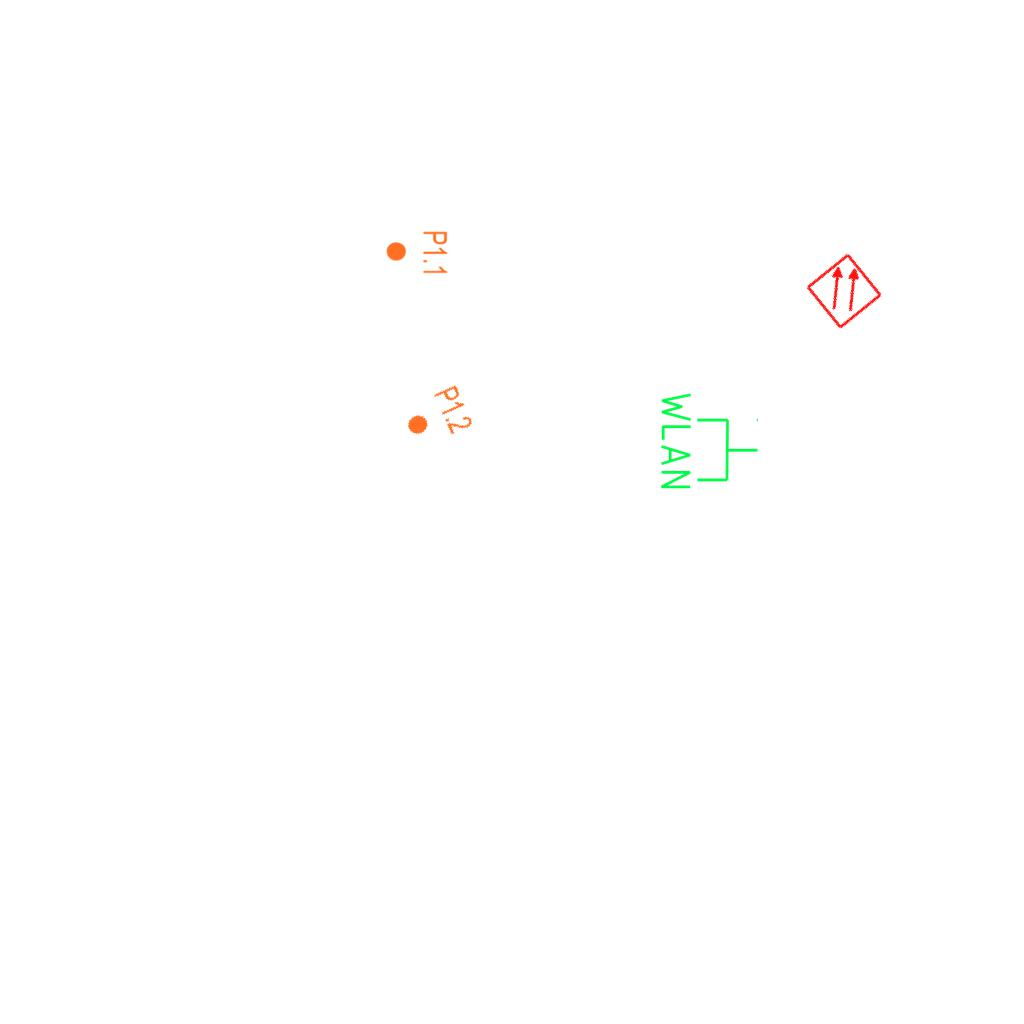Downlight_LED_Einbauleuchten_Flur: (398, 382, 476, 452), (385, 230, 449, 276)
RMO_Rauchmelder_optischer: (804, 251, 884, 331)
WLAN: (657, 388, 761, 493)
